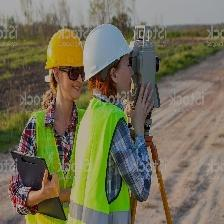Person: (9, 27, 86, 224), (88, 20, 154, 224)
helmet: (81, 22, 135, 84), (44, 26, 85, 75)
vest: (66, 105, 136, 224)
